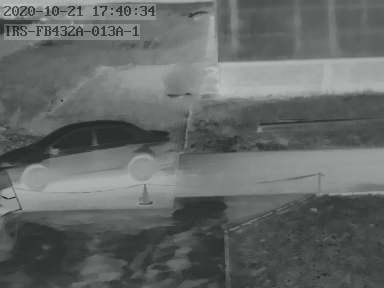vehicle: (2, 118, 179, 191)
